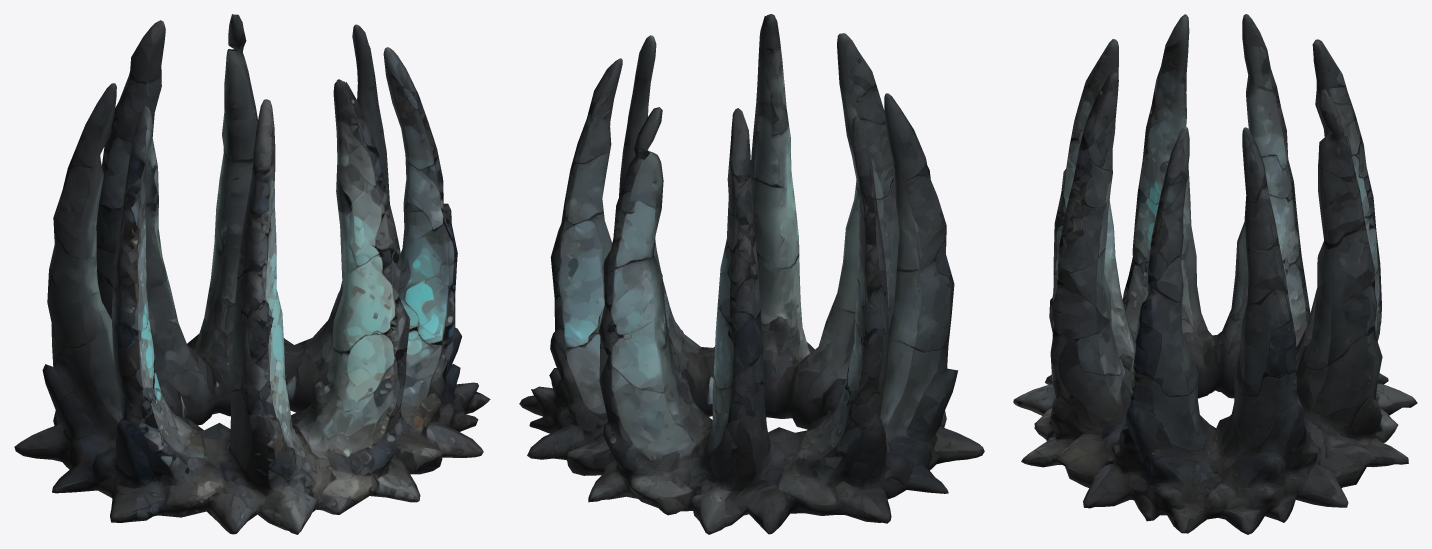
The model's file is heartstone_tripo.glb.
3 views of the same model, side by side, from view 1: azimuth 30°, elevation 25°; view 2: azimuth 150°, elevation 25°; view 3: azimuth 270°, elevation 25° (orthographic). The views are drawn at different scales.
Parts seen in each view (by area): view 1: crystal cluster 3d model; view 2: crystal cluster 3d model; view 3: crystal cluster 3d model.
Boxes of the visible parts, box(x1,y1,x2,y2) form: crystal cluster 3d model: box(14, 14, 490, 534); crystal cluster 3d model: box(519, 14, 984, 534); crystal cluster 3d model: box(1013, 14, 1417, 534).
Bounding box in the file's own units: 0.9702 × 0.8681 × 0.8431.
Materials: 1 (1 with a texture image).
